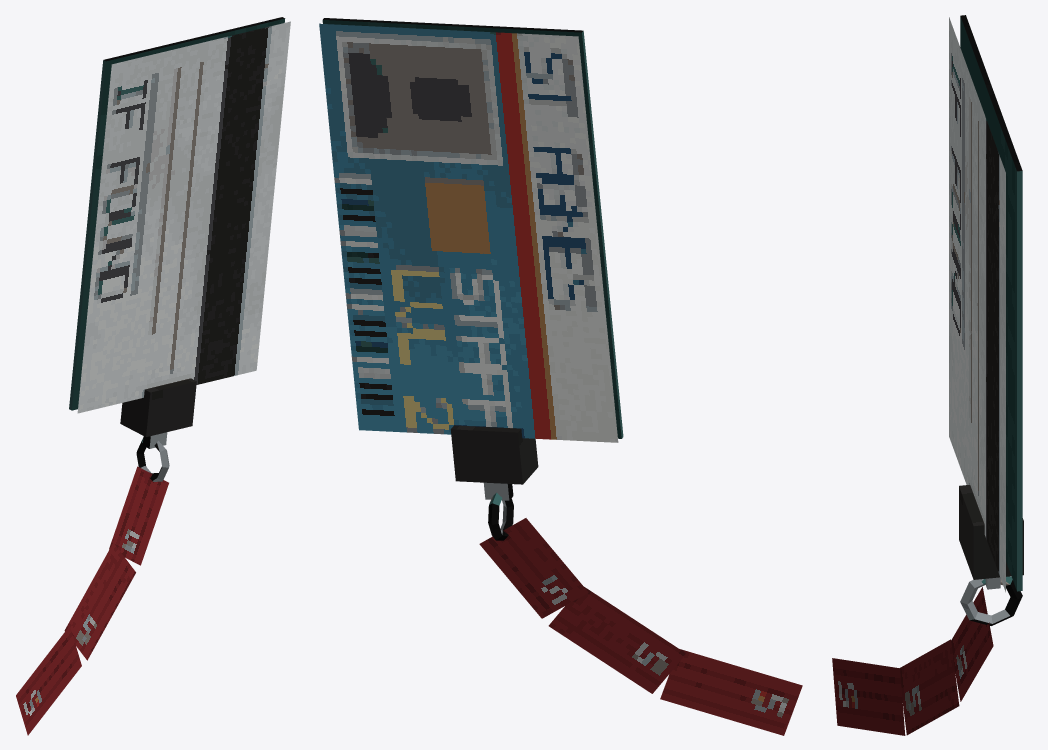
Rendered from px_fp_keycard.glb.
3 renders of one model, left to right at view 1: azimuth 30°, elevation 25°; view 2: azimuth 150°, elevation 25°; view 3: azimuth 270°, elevation 25°, orthographic. The views are drawn at different scales.
Visible parts, largest first — view 1: px_fp_keycard; view 2: px_fp_keycard; view 3: px_fp_keycard.
Part boxes in pixels (x1,y1,x2,y2): px_fp_keycard: (16,17,290,735); px_fp_keycard: (319,18,802,735); px_fp_keycard: (832,15,1023,735).
Size of the model in its own units: 0.09 by 0.1529 by 0.0354.
Materials: 1 (1 with a texture image).
